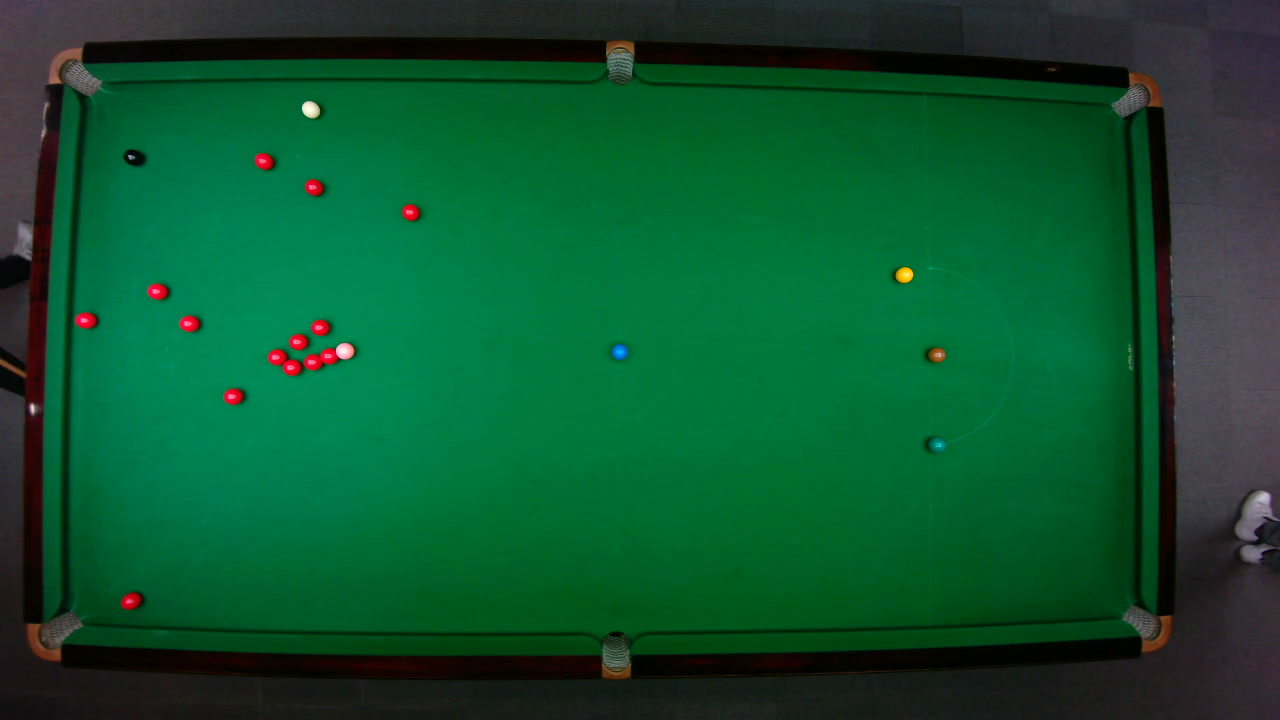bag: (25, 609, 84, 661), (46, 46, 102, 96), (1119, 603, 1172, 652), (1108, 71, 1161, 118), (600, 629, 630, 680), (605, 38, 633, 85)
black: (122, 148, 143, 166)
blue: (610, 342, 628, 360)
brown: (926, 346, 945, 362)
green: (926, 435, 945, 452)
pink: (334, 341, 355, 360)
red: (118, 590, 142, 610), (145, 281, 169, 300), (221, 386, 244, 405), (73, 310, 97, 328), (177, 314, 200, 332), (253, 151, 274, 170), (302, 178, 324, 196), (302, 352, 324, 370), (400, 202, 420, 221), (287, 332, 308, 350), (281, 358, 302, 376), (265, 348, 287, 365), (318, 346, 337, 365), (309, 318, 330, 335)
white: (300, 99, 321, 119)
yellow: (893, 265, 914, 283)
zone: (926, 265, 1014, 445)
